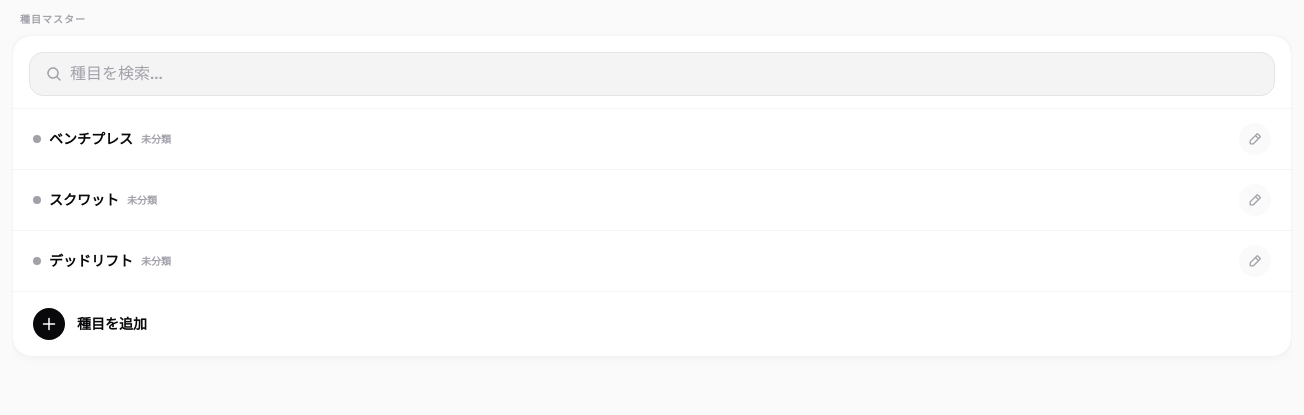
Test: ExerciseMasterSection › 入力を変更すると重複エラーをクリアする
Click the button "種目を追加": click(49, 324) x1=13 y1=292 x2=1291 y2=356
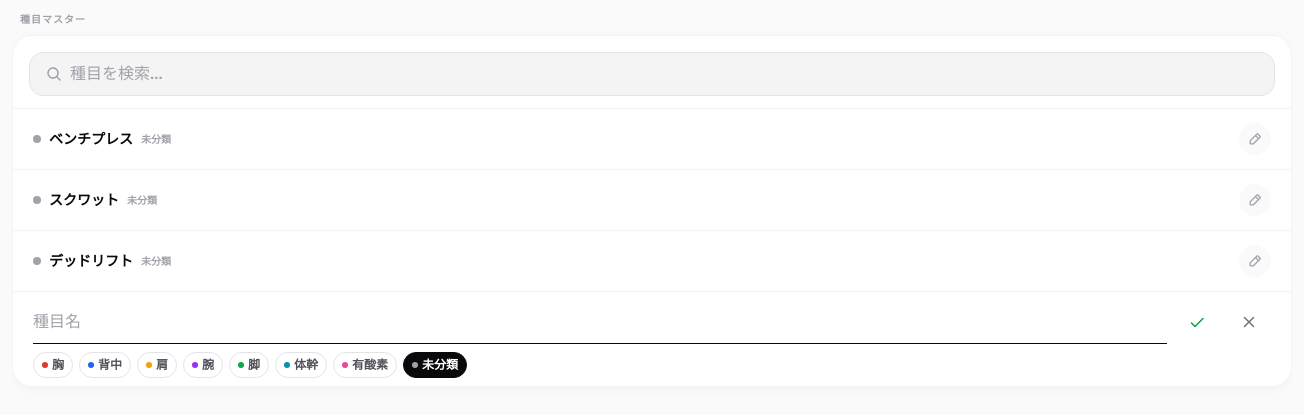
In the field named "新しい種目名": (600, 322) x1=33 y1=300 x2=1167 y2=344, type "ベンチプレス"
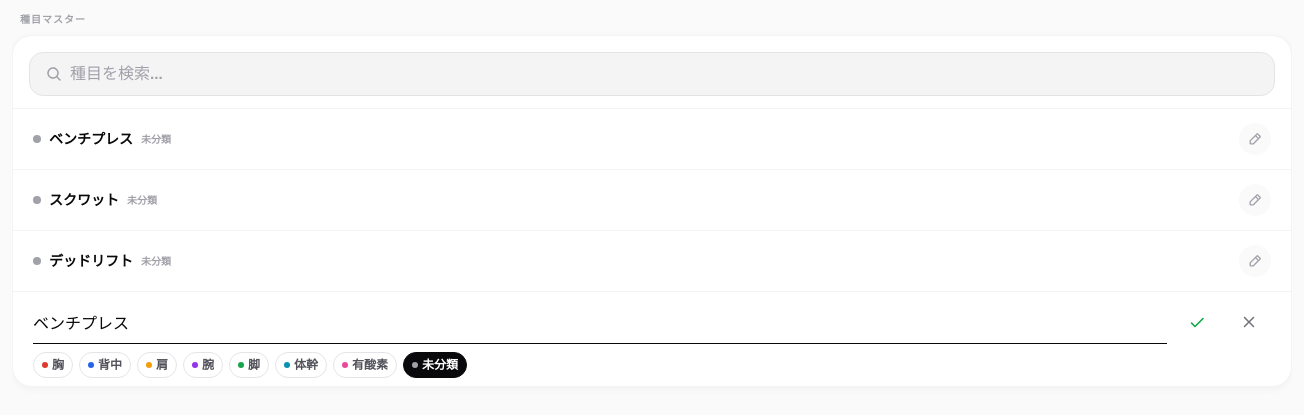
Click the button named "追加を確定": click(1197, 322) x1=1175 y1=300 x2=1219 y2=344
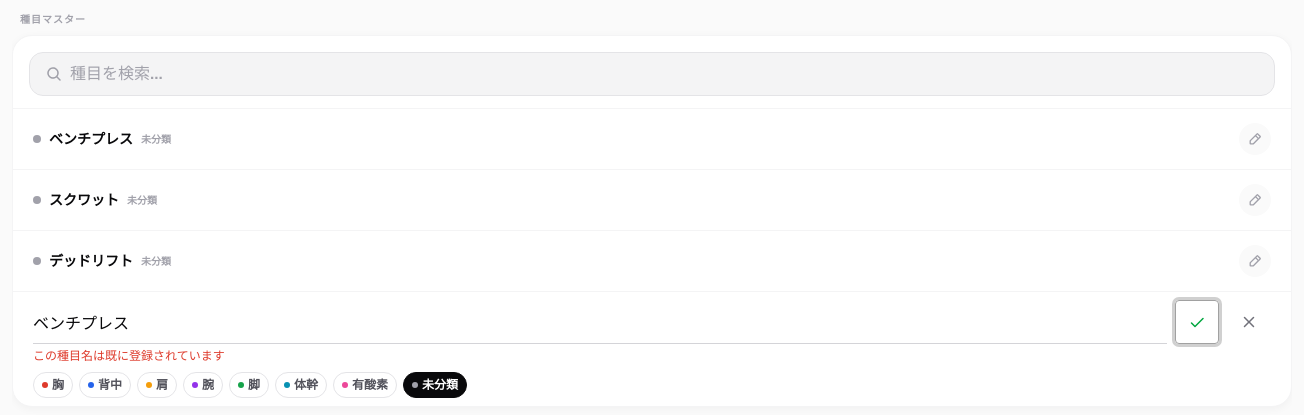
Check: the message "この種目名は既に登録されています" is shown, box x1=33 y1=348 x2=225 y2=363
入力を変えるとエラーが消える
In the field named "新しい種目名": (600, 322) x1=33 y1=300 x2=1167 y2=344, type "2"
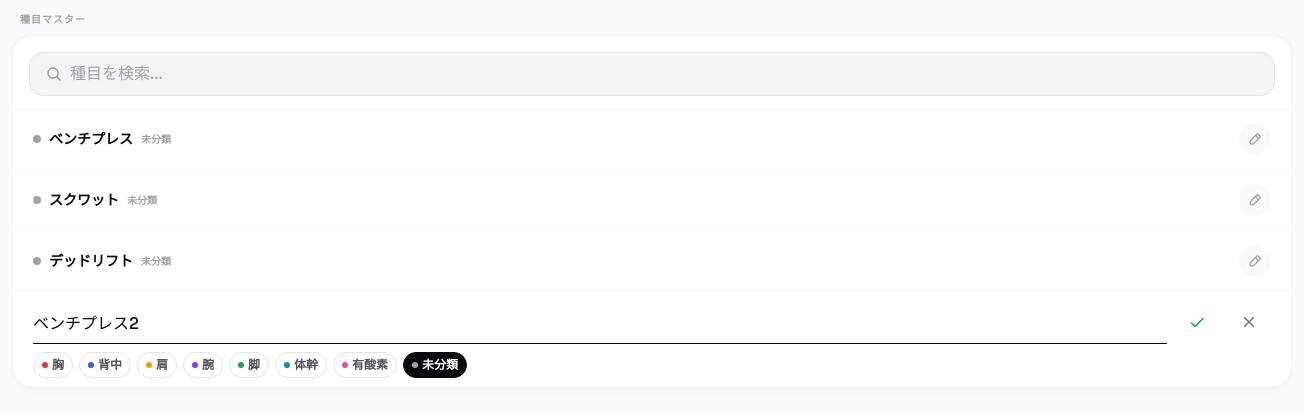
Check: the message "この種目名は既に登録されています" is gone
